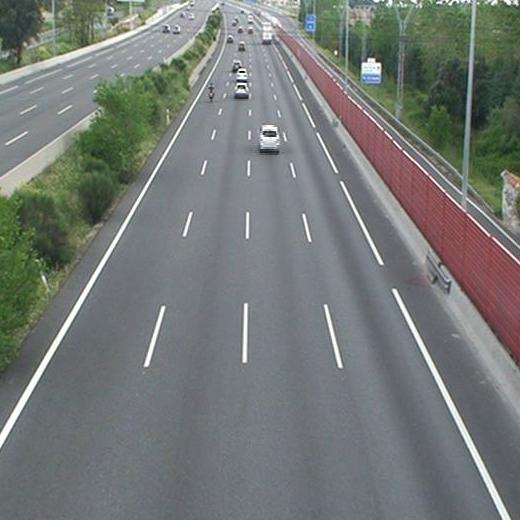car: (260, 124, 279, 150), (235, 84, 250, 97), (236, 69, 247, 80), (238, 42, 246, 53), (232, 59, 241, 68)
motorcycle: (207, 81, 218, 101)
small-truck: (261, 21, 273, 45)
